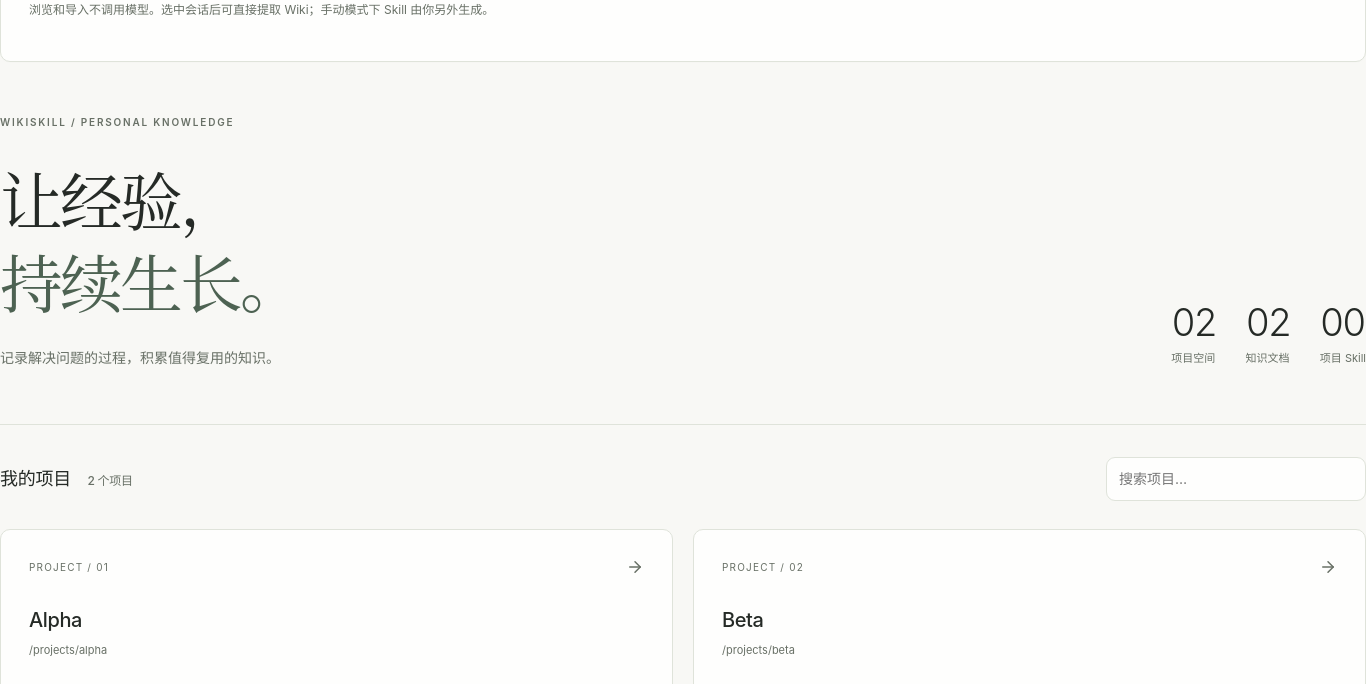
requires an explicit project and lets users filter project cards
The image size is (1366, 684).
Type "beta" into the field labelled "搜索项目" at [1236, 479], box x1=1106 y1=457 x2=1365 y2=501
(page scrolled)
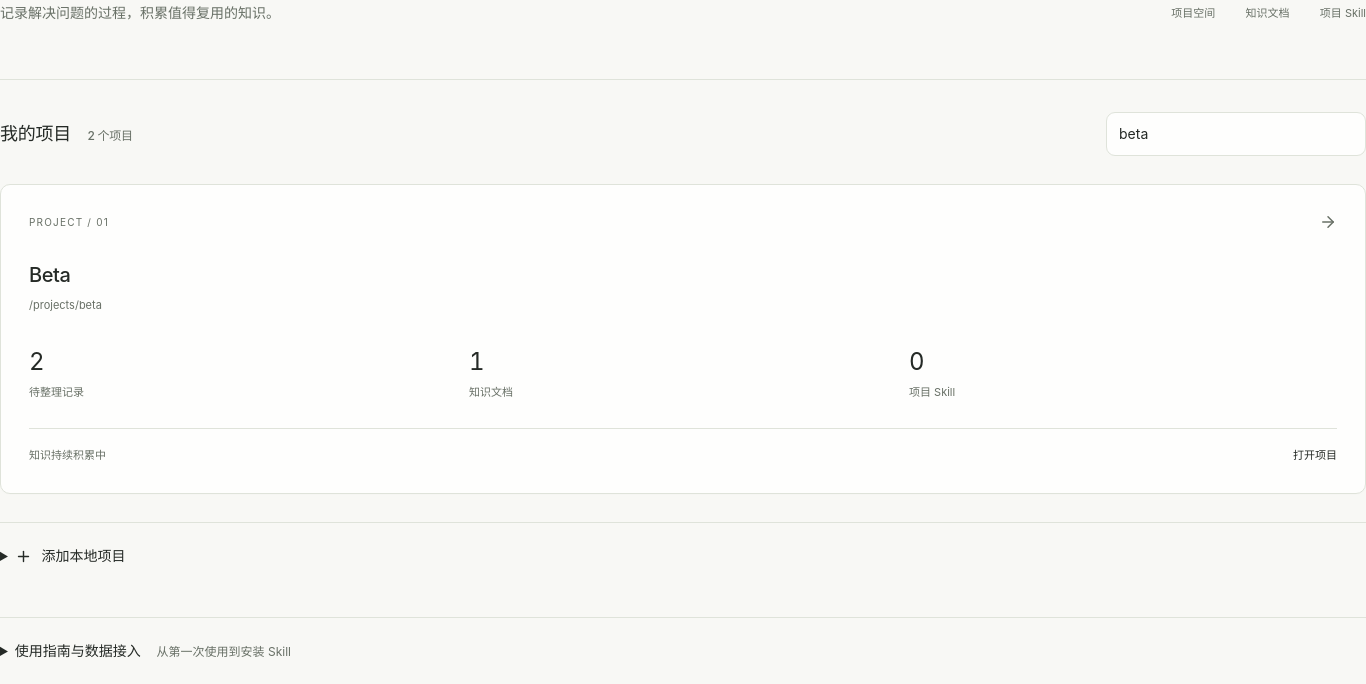
Expected: the heading "Beta" is shown, x1=29 y1=263 x2=70 y2=287
Expected: the link "Alpha" is gone
